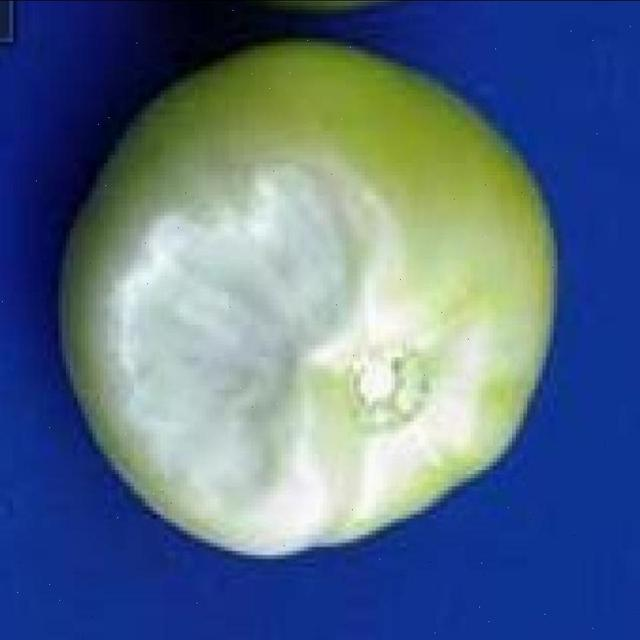Sunscald Fruit: (84, 162, 294, 277)
